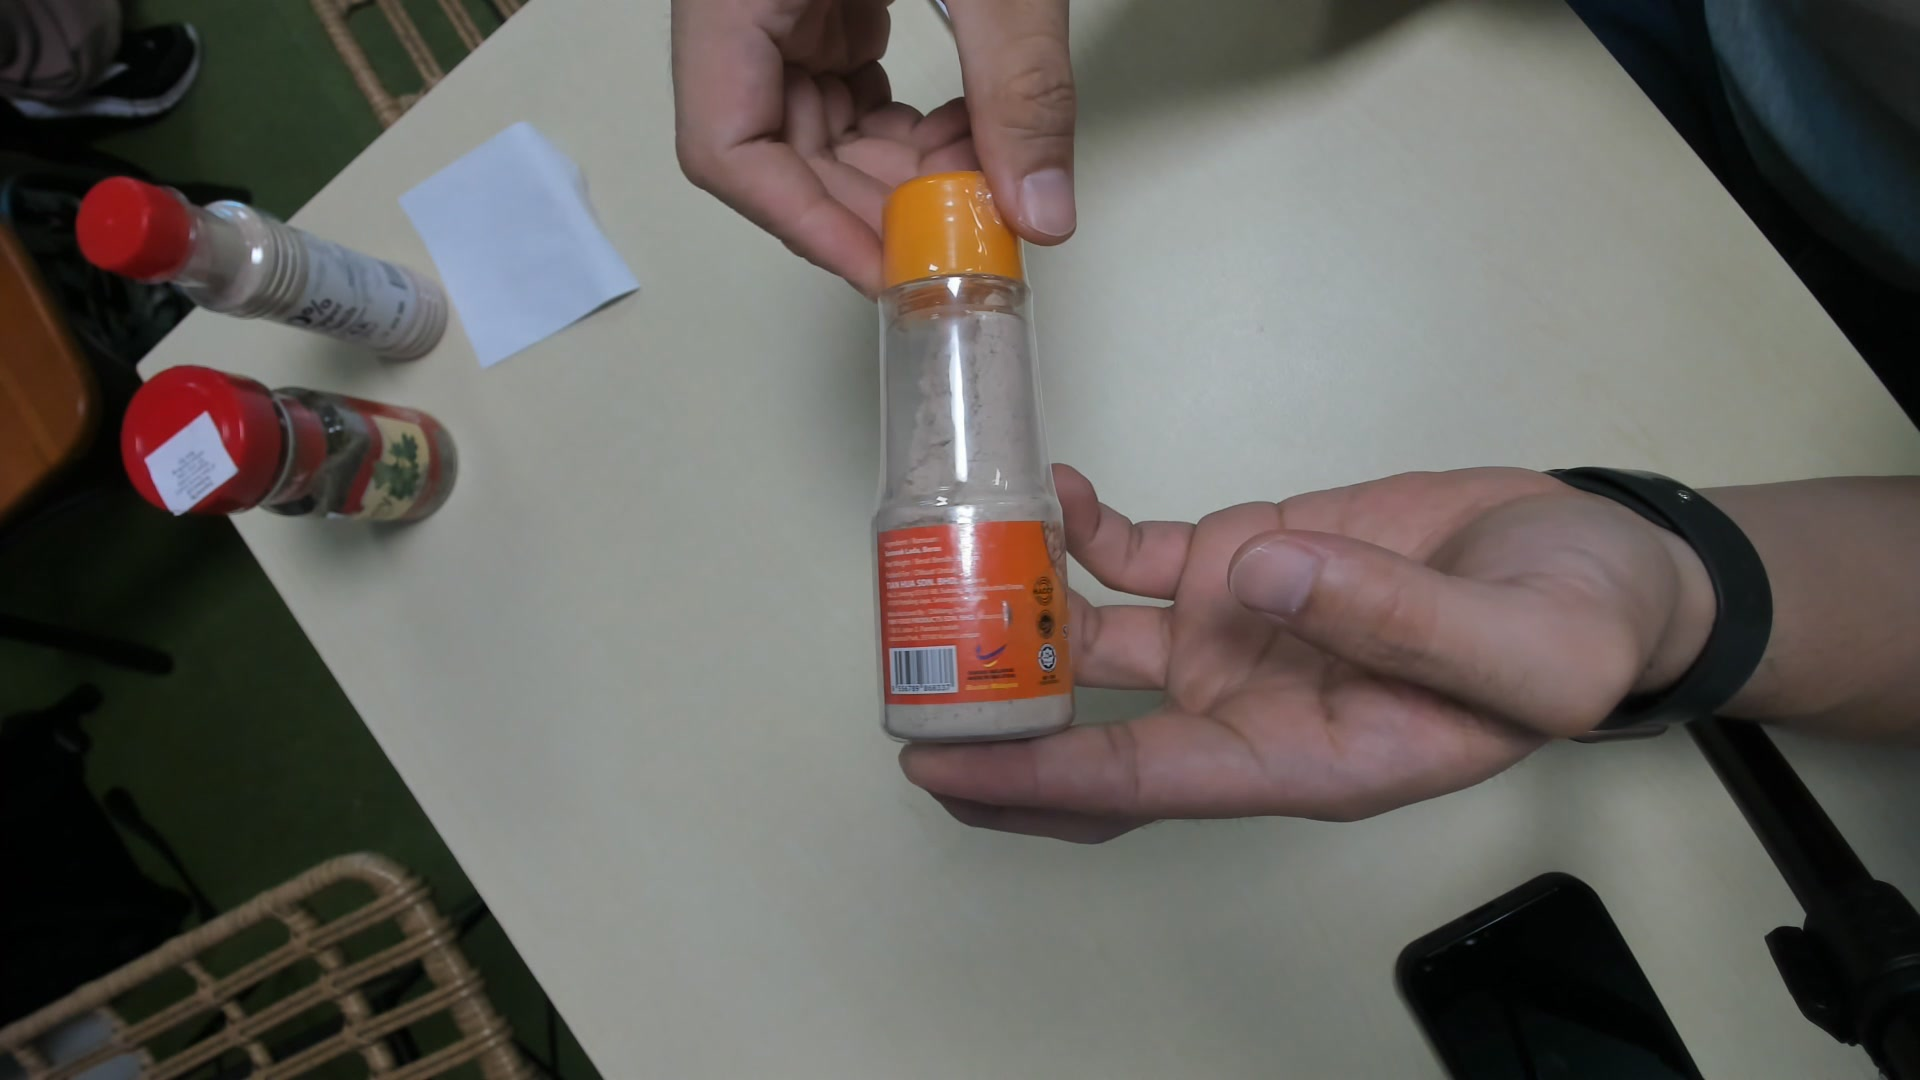HerbsSpicesPepper_400-499g_Halal_NonHealthy: (856, 178, 1073, 738)
